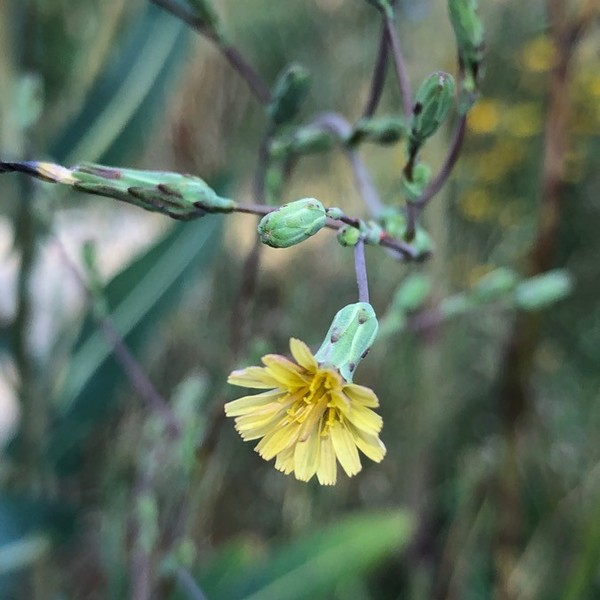obstacle: (69, 148, 461, 507)
